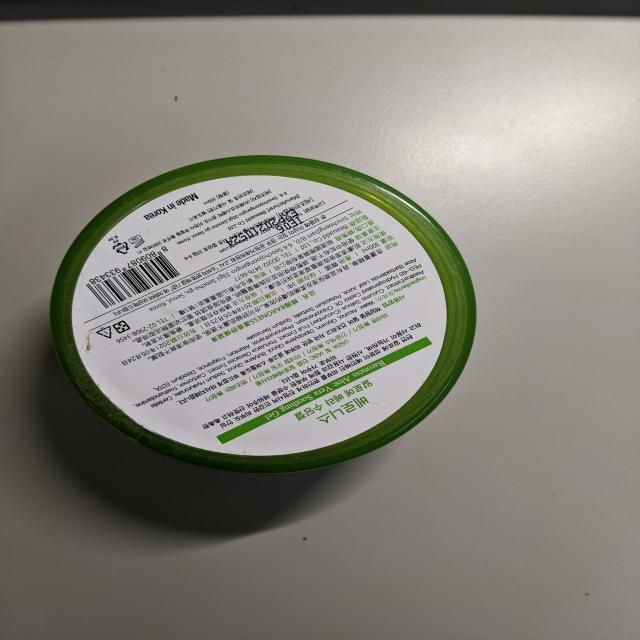Plastic: (49, 156, 474, 464)
